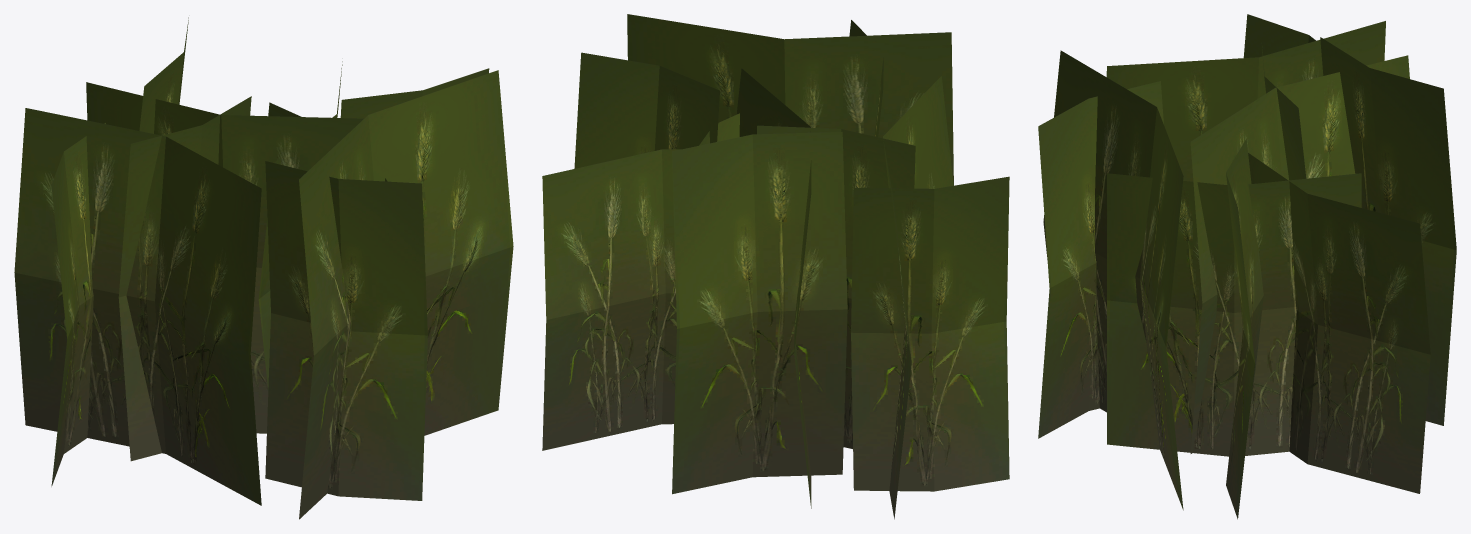
The model's file is bg_anh_foliage_crops14_sm_ksy.FBX.
3 views of the same model, side by side, from view 1: azimuth 30°, elevation 25°; view 2: azimuth 150°, elevation 25°; view 3: azimuth 270°, elevation 25° (orthographic).
Parts seen in each view (by area): view 1: bg_anh_foliage_crops14_sm_ksy; view 2: bg_anh_foliage_crops14_sm_ksy; view 3: bg_anh_foliage_crops14_sm_ksy.
Part boxes in pixels (bbox=[...]): bg_anh_foliage_crops14_sm_ksy: bbox=[14, 17, 513, 519]; bg_anh_foliage_crops14_sm_ksy: bbox=[542, 14, 1009, 519]; bg_anh_foliage_crops14_sm_ksy: bbox=[1038, 14, 1456, 519].
Size of the model in its own units: 196 by 148 by 166.
